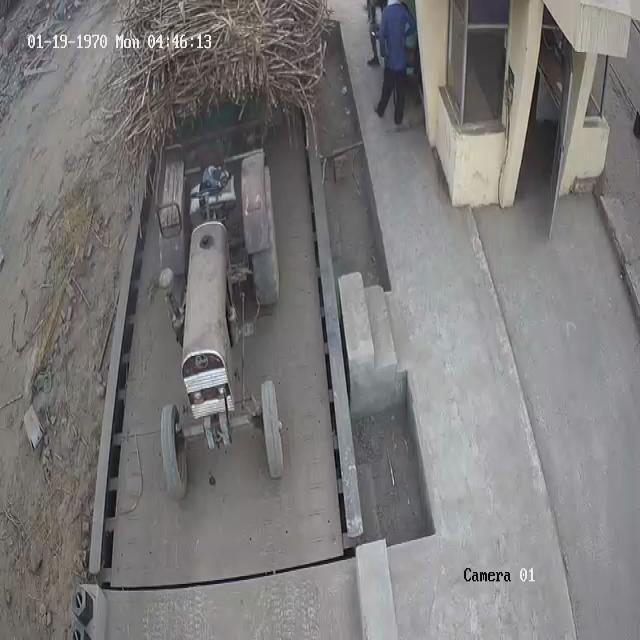Tratores - v5 YOLO V8L 2024-11-13: (154, 151, 291, 504)
